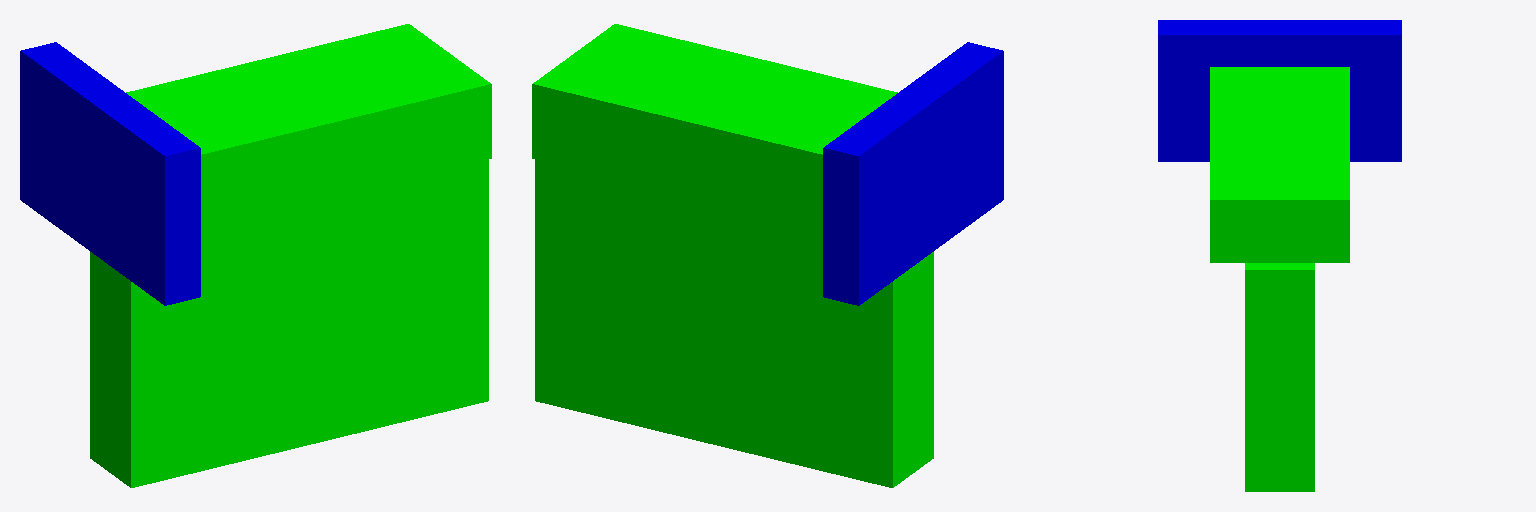
The robot description file, URDF, robot "robot":
<robot name = "robot">
    <link name="root">
        <inertial>
            <origin xyz="0.0 0.0 1.5" rpy="0 0 0"/>
            <mass value="1" />
            <inertia ixx="100" ixy="0" ixz="0" iyy="100" iyz="0" izz="100" />
        </inertial>
        <visual>
            <origin xyz="0.0 0.0 1.5" rpy="0 0 0"/>
            <geometry>
                <box size="0 0 0.0001" />
            </geometry>
            <material name="Green">
                <color rgba="0 1.0 0.0 1.0"/>
            </material>
        </visual>
        <collision>
            <origin xyz="0.0 0.0 1.5" rpy="0 0 0"/>
            <geometry>
                <box size="0 0 0.0001" />
            </geometry>
        </collision>
    </link>
    <joint name="root_000" type="revolute">
       <parent link="root"/>
       <child  link="000"/>
       <origin rpy="0 0 0" xyz="0.0 0.0 1.5" />
     <axis xyz="1 0 0"/>
       <limit effort="0.0" lower="-3.14159" upper="3.14159" velocity="0.0"/>
    </joint>
    <link name="000">
        <inertial>
            <origin xyz="0.0 0.35 0.0" rpy="0 0 0"/>
            <mass value="1" />
            <inertia ixx="100" ixy="0" ixz="0" iyy="100" iyz="0" izz="100" />
        </inertial>
        <visual>
            <origin xyz="0.0 0.35 0.0" rpy="0 0 0"/>
            <geometry>
                <box size="0.1 0.7 0.4" />
            </geometry>
            <material name="Blue">
                <color rgba="0 0.0 1.0 1.0"/>
            </material>
        </visual>
        <collision>
            <origin xyz="0.0 0.35 0.0" rpy="0 0 0"/>
            <geometry>
                <box size="0.1 0.7 0.4" />
            </geometry>
        </collision>
    </link>
    <joint name="000_000-100" type="revolute">
       <parent link="000"/>
       <child  link="000-100"/>
       <origin rpy="0 0 0" xyz="0.05 0.35 -0.0" />
     <axis xyz="1 0 0"/>
       <limit effort="0.0" lower="-3.14159" upper="3.14159" velocity="0.0"/>
    </joint>
    <link name="000-100">
        <inertial>
            <origin xyz="0.15 0.0 -0.0" rpy="0 0 0"/>
            <mass value="1" />
            <inertia ixx="100" ixy="0" ixz="0" iyy="100" iyz="0" izz="100" />
        </inertial>
        <visual>
            <origin xyz="0.15 0.0 -0.0" rpy="0 0 0"/>
            <geometry>
                <box size="0.3 0.4 0.2" />
            </geometry>
            <material name="Green">
                <color rgba="0 1.0 0.0 1.0"/>
            </material>
        </visual>
        <collision>
            <origin xyz="0.15 0.0 -0.0" rpy="0 0 0"/>
            <geometry>
                <box size="0.3 0.4 0.2" />
            </geometry>
        </collision>
    </link>
    <joint name="000-100_000-110" type="revolute">
       <parent link="000-100"/>
       <child  link="000-110"/>
       <origin rpy="0 0 0" xyz="0.3 0.0 -0.0" />
     <axis xyz="1 0 0"/>
       <limit effort="0.0" lower="-3.14159" upper="3.14159" velocity="0.0"/>
    </joint>
    <link name="000-110">
        <inertial>
            <origin xyz="0.15 0.0 -0.0" rpy="0 0 0"/>
            <mass value="1" />
            <inertia ixx="100" ixy="0" ixz="0" iyy="100" iyz="0" izz="100" />
        </inertial>
        <visual>
            <origin xyz="0.15 0.0 -0.0" rpy="0 0 0"/>
            <geometry>
                <box size="0.3 0.4 0.2" />
            </geometry>
            <material name="Green">
                <color rgba="0 1.0 0.0 1.0"/>
            </material>
        </visual>
        <collision>
            <origin xyz="0.15 0.0 -0.0" rpy="0 0 0"/>
            <geometry>
                <box size="0.3 0.4 0.2" />
            </geometry>
        </collision>
    </link>
    <joint name="000-110_000-120" type="revolute">
       <parent link="000-110"/>
       <child  link="000-120"/>
       <origin rpy="0 0 0" xyz="0.3 0.0 -0.0" />
     <axis xyz="1 0 0"/>
       <limit effort="0.0" lower="-3.14159" upper="3.14159" velocity="0.0"/>
    </joint>
    <link name="000-120">
        <inertial>
            <origin xyz="0.15 0.0 -0.0" rpy="0 0 0"/>
            <mass value="1" />
            <inertia ixx="100" ixy="0" ixz="0" iyy="100" iyz="0" izz="100" />
        </inertial>
        <visual>
            <origin xyz="0.15 0.0 -0.0" rpy="0 0 0"/>
            <geometry>
                <box size="0.3 0.4 0.2" />
            </geometry>
            <material name="Green">
                <color rgba="0 1.0 0.0 1.0"/>
            </material>
        </visual>
        <collision>
            <origin xyz="0.15 0.0 -0.0" rpy="0 0 0"/>
            <geometry>
                <box size="0.3 0.4 0.2" />
            </geometry>
        </collision>
    </link>
    <joint name="000-120_000-120-200" type="revolute">
       <parent link="000-120"/>
       <child  link="000-120-200"/>
       <origin rpy="0 0 0" xyz="0.15 0.0 -0.1" />
     <axis xyz="0 0 1"/>
       <limit effort="0.0" lower="-3.14159" upper="3.14159" velocity="0.0"/>
    </joint>
    <link name="000-120-200">
        <inertial>
            <origin xyz="0.0 0.0 -0.35" rpy="0 0 0"/>
            <mass value="1" />
            <inertia ixx="100" ixy="0" ixz="0" iyy="100" iyz="0" izz="100" />
        </inertial>
        <visual>
            <origin xyz="0.0 0.0 -0.35" rpy="0 0 0"/>
            <geometry>
                <box size="0.4 0.2 0.7" />
            </geometry>
            <material name="Green">
                <color rgba="0 1.0 0.0 1.0"/>
            </material>
        </visual>
        <collision>
            <origin xyz="0.0 0.0 -0.35" rpy="0 0 0"/>
            <geometry>
                <box size="0.4 0.2 0.7" />
            </geometry>
        </collision>
    </link>
    <joint name="000-110_000-110-200" type="revolute">
       <parent link="000-110"/>
       <child  link="000-110-200"/>
       <origin rpy="0 0 0" xyz="0.15 0.0 -0.1" />
     <axis xyz="0 0 1"/>
       <limit effort="0.0" lower="-3.14159" upper="3.14159" velocity="0.0"/>
    </joint>
    <link name="000-110-200">
        <inertial>
            <origin xyz="0.0 0.0 -0.35" rpy="0 0 0"/>
            <mass value="1" />
            <inertia ixx="100" ixy="0" ixz="0" iyy="100" iyz="0" izz="100" />
        </inertial>
        <visual>
            <origin xyz="0.0 0.0 -0.35" rpy="0 0 0"/>
            <geometry>
                <box size="0.4 0.2 0.7" />
            </geometry>
            <material name="Green">
                <color rgba="0 1.0 0.0 1.0"/>
            </material>
        </visual>
        <collision>
            <origin xyz="0.0 0.0 -0.35" rpy="0 0 0"/>
            <geometry>
                <box size="0.4 0.2 0.7" />
            </geometry>
        </collision>
    </link>
    <joint name="000-100_000-100-200" type="revolute">
       <parent link="000-100"/>
       <child  link="000-100-200"/>
       <origin rpy="0 0 0" xyz="0.15 0.0 -0.1" />
     <axis xyz="0 0 1"/>
       <limit effort="0.0" lower="-3.14159" upper="3.14159" velocity="0.0"/>
    </joint>
    <link name="000-100-200">
        <inertial>
            <origin xyz="0.0 0.0 -0.35" rpy="0 0 0"/>
            <mass value="1" />
            <inertia ixx="100" ixy="0" ixz="0" iyy="100" iyz="0" izz="100" />
        </inertial>
        <visual>
            <origin xyz="0.0 0.0 -0.35" rpy="0 0 0"/>
            <geometry>
                <box size="0.4 0.2 0.7" />
            </geometry>
            <material name="Green">
                <color rgba="0 1.0 0.0 1.0"/>
            </material>
        </visual>
        <collision>
            <origin xyz="0.0 0.0 -0.35" rpy="0 0 0"/>
            <geometry>
                <box size="0.4 0.2 0.7" />
            </geometry>
        </collision>
    </link>
</robot>

--- Facts derived from the render (not from the file) ---
Views: 3 orthographic renders of the robot side by side, from view 1: azimuth 30°, elevation 25°; view 2: azimuth 150°, elevation 25°; view 3: azimuth 270°, elevation 25°.
Model robot with 8 links and 7 joints (7 revolute), rooted at root, posed all joints at 0.
Links seen in each view (by area): view 1: [phone redacted] (×3), 000, 000-120, 000-110, 000-100; view 2: [phone redacted] (×3), 000, 000-120, 000-110, 000-100; view 3: 000, [phone redacted], 000-120, 000-100, 000-110.
Link boxes in pixels (<box>): [phone redacted] (×3): <box>90,160,488,487</box>; 000: <box>20,42,200,305</box>; 000-120: <box>303,24,491,184</box>; 000-110: <box>195,50,383,210</box>; 000-100: <box>126,76,276,229</box>; [phone redacted] (×3): <box>535,160,933,487</box>; 000: <box>823,42,1003,305</box>; 000-120: <box>532,24,720,184</box>; 000-110: <box>640,50,828,210</box>; 000-100: <box>747,76,897,229</box>; 000: <box>1158,20,1401,161</box>; [phone redacted]: <box>1245,263,1314,491</box>; 000-120: <box>1210,155,1349,262</box>; 000-100: <box>1210,67,1349,110</box>; 000-110: <box>1210,111,1349,154</box>.
Bounding box of the posed robot: 1.05 × 0.7 × 1 m (x, y, z).
Geometry: primitives only (box / cylinder / sphere), no mesh files.
